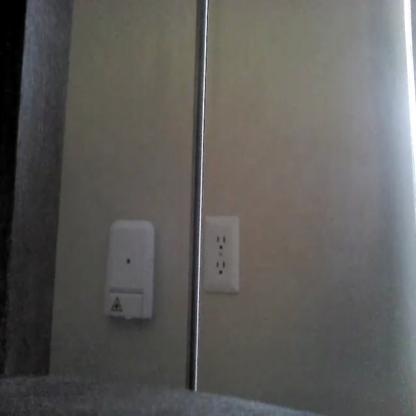OUTLET: (204, 215, 240, 292)
